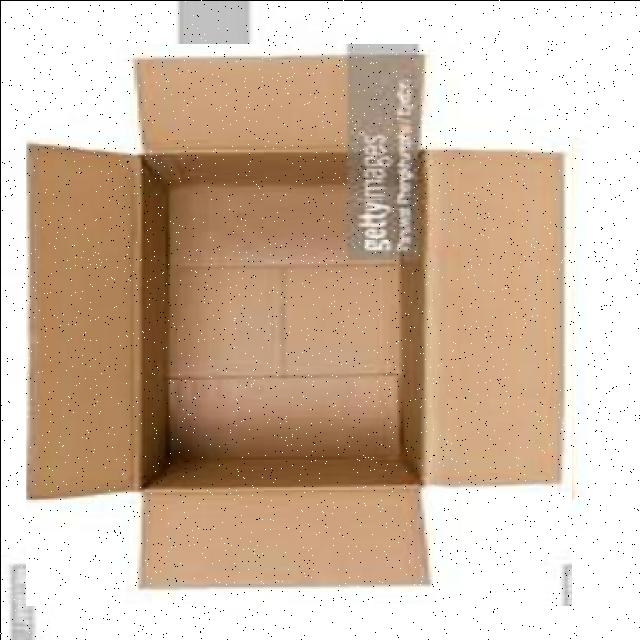defect: (24, 43, 570, 605)
